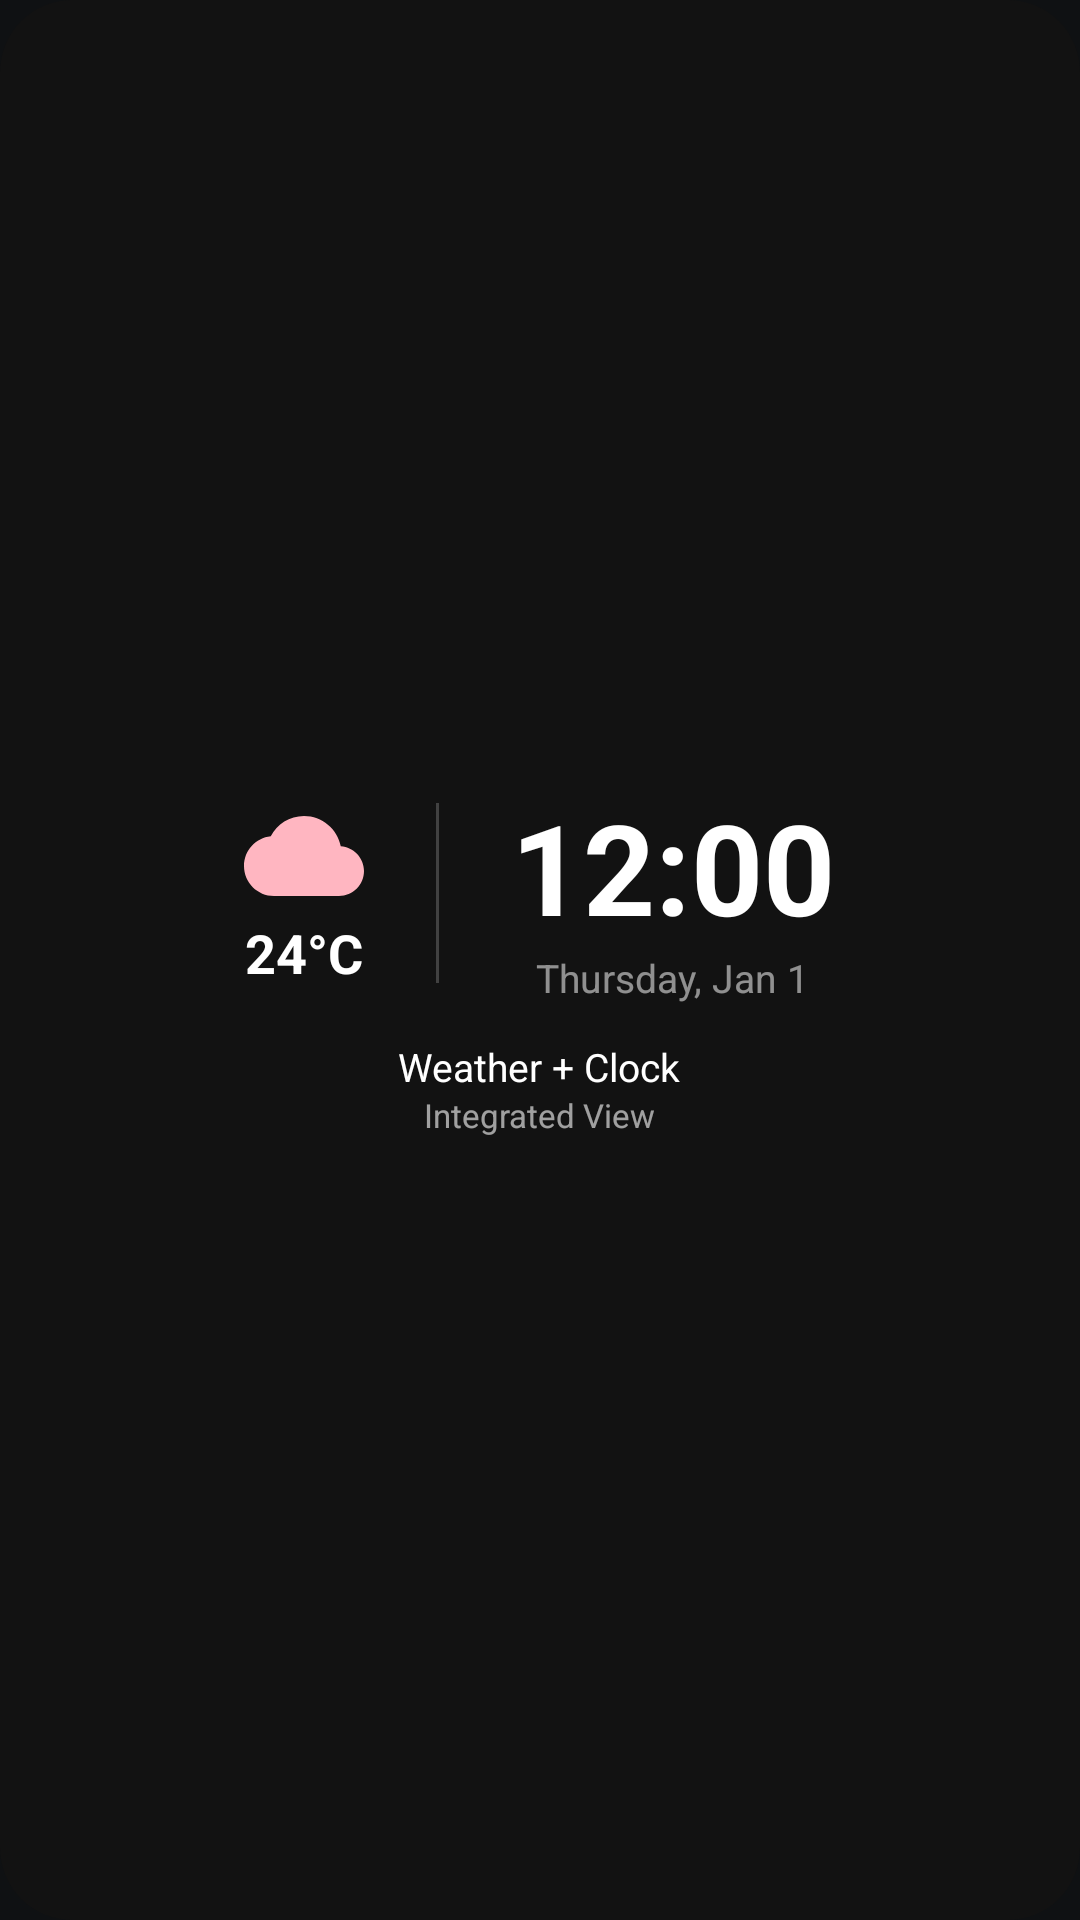

Where icons sit on this 1080x1920 app screen, as (x1, y1, x2, y2):
weather cloud: (244, 816, 364, 896)
